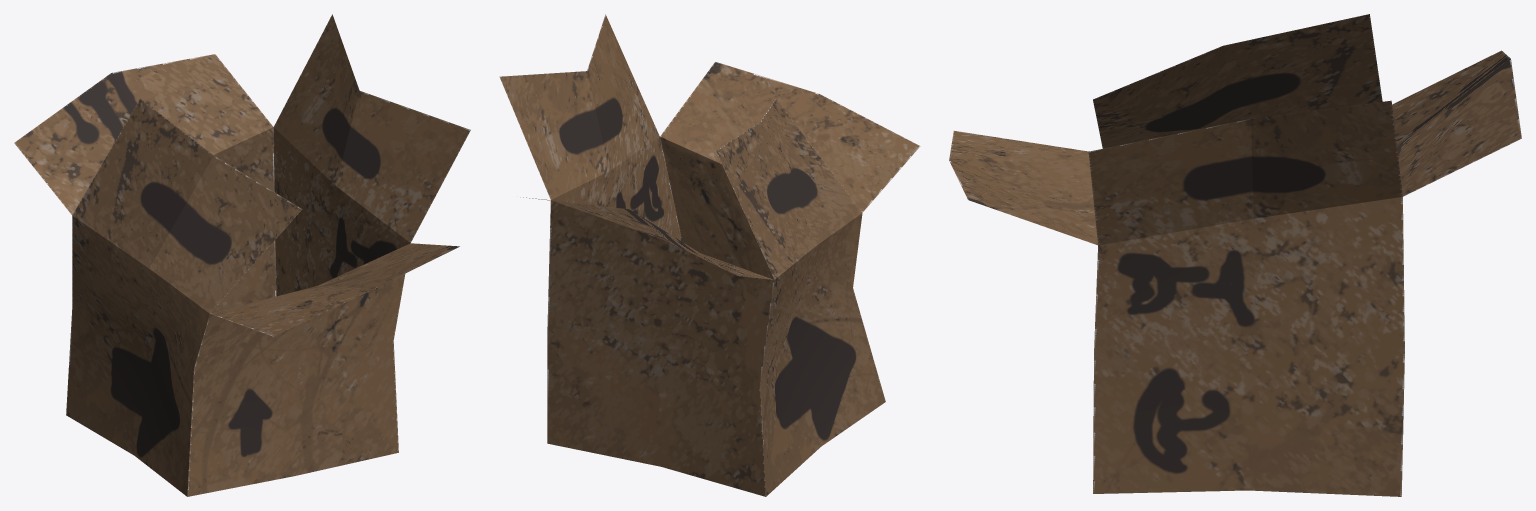
Rendered from cardboardbox.fbx.
The picture shows the model from 3 angles, left to right: view 1: azimuth 30°, elevation 25°; view 2: azimuth 150°, elevation 25°; view 3: azimuth 270°, elevation 25°; orthographic projection. The views are drawn at different scales.
Visible parts, largest first — view 1: cardboardbox:pCube1; view 2: cardboardbox:pCube1; view 3: cardboardbox:pCube1.
Boxes of the visible parts, <box> form: cardboardbox:pCube1: <box>14,14,470,496</box>; cardboardbox:pCube1: <box>499,14,920,496</box>; cardboardbox:pCube1: <box>949,14,1521,496</box>.
Size of the model in its own units: 2.76 by 3.07 by 3.73.
Materials: 1 (1 with a texture image).
